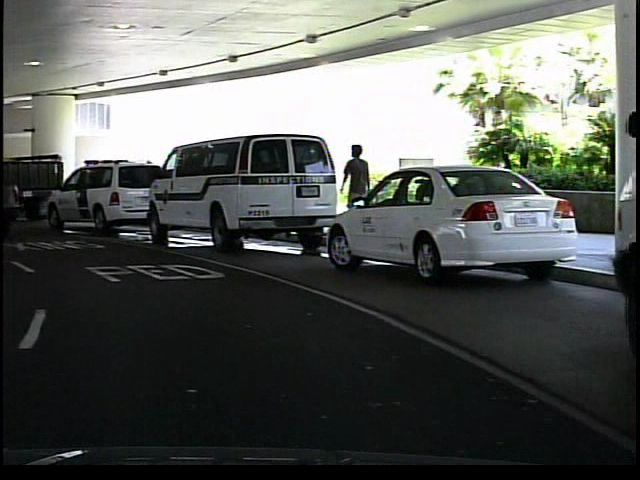person: (336, 140, 371, 241)
